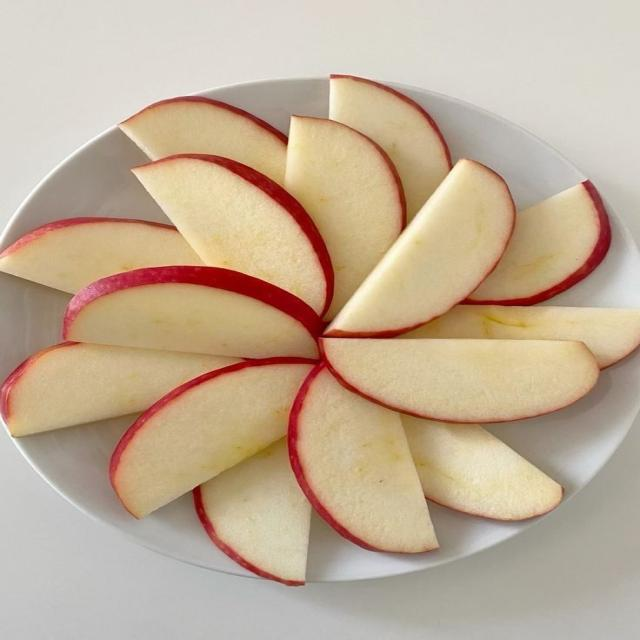apple: (326, 160, 514, 337), (110, 358, 314, 518), (133, 155, 333, 315), (288, 365, 438, 552), (285, 117, 405, 319), (63, 266, 321, 358), (320, 338, 599, 423), (0, 342, 238, 436), (466, 181, 611, 305), (329, 75, 451, 219), (194, 439, 311, 585), (402, 416, 563, 520), (0, 218, 202, 293), (400, 305, 639, 368), (120, 96, 286, 183)
